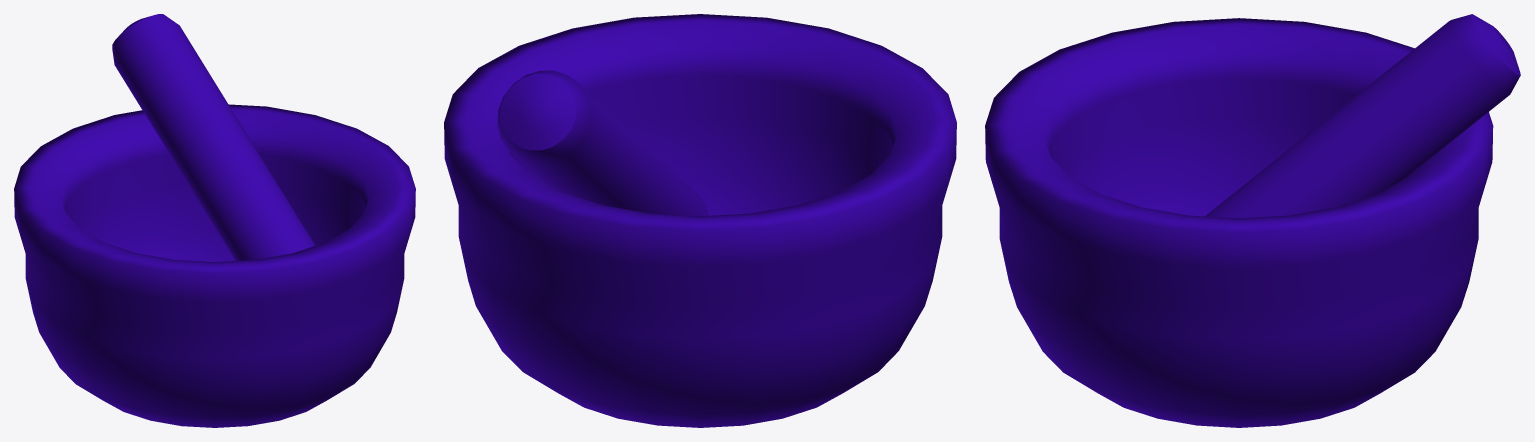
Rendered from Mortar.fbx.
3 views of the same model, side by side, from view 1: azimuth 30°, elevation 25°; view 2: azimuth 150°, elevation 25°; view 3: azimuth 270°, elevation 25° (orthographic). The views are drawn at different scales.
Visible parts, largest first — view 1: Motar_Pestle; view 2: Motar_Pestle; view 3: Motar_Pestle.
Boxes of the visible parts, <box> form: Motar_Pestle: <box>14,14,415,427</box>; Motar_Pestle: <box>444,14,956,427</box>; Motar_Pestle: <box>985,14,1520,427</box>.
Bounding box in the file's own units: 31.62 × 26.26 × 33.34.
